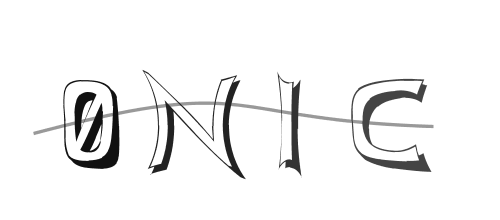0: (60, 77, 122, 171)
C: (346, 73, 434, 176)
N: (139, 62, 246, 181)
l: (273, 68, 304, 177)
